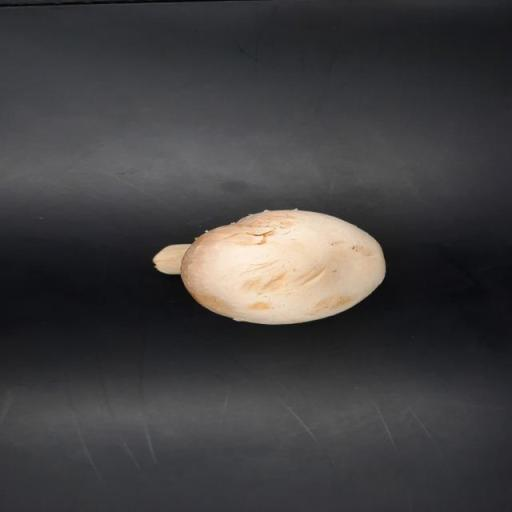mushroom: (152, 203, 391, 335)
